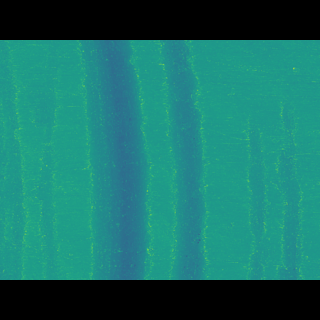Loch: (81, 71, 150, 251), (0, 72, 66, 251), (233, 115, 311, 250), (160, 69, 210, 250)
